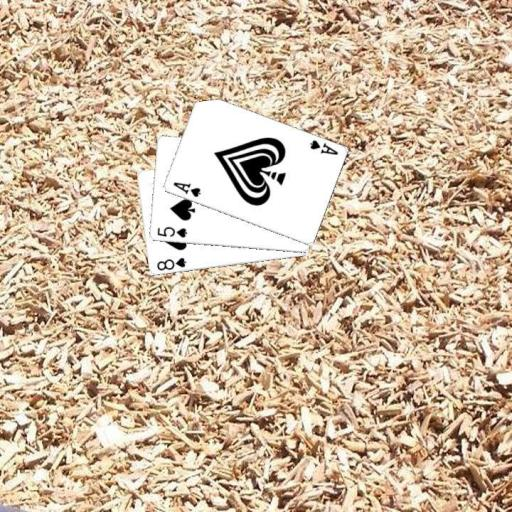5S: (154, 224, 189, 240)
8S: (154, 255, 188, 273)
AS: (307, 137, 339, 157), (170, 180, 202, 199)
